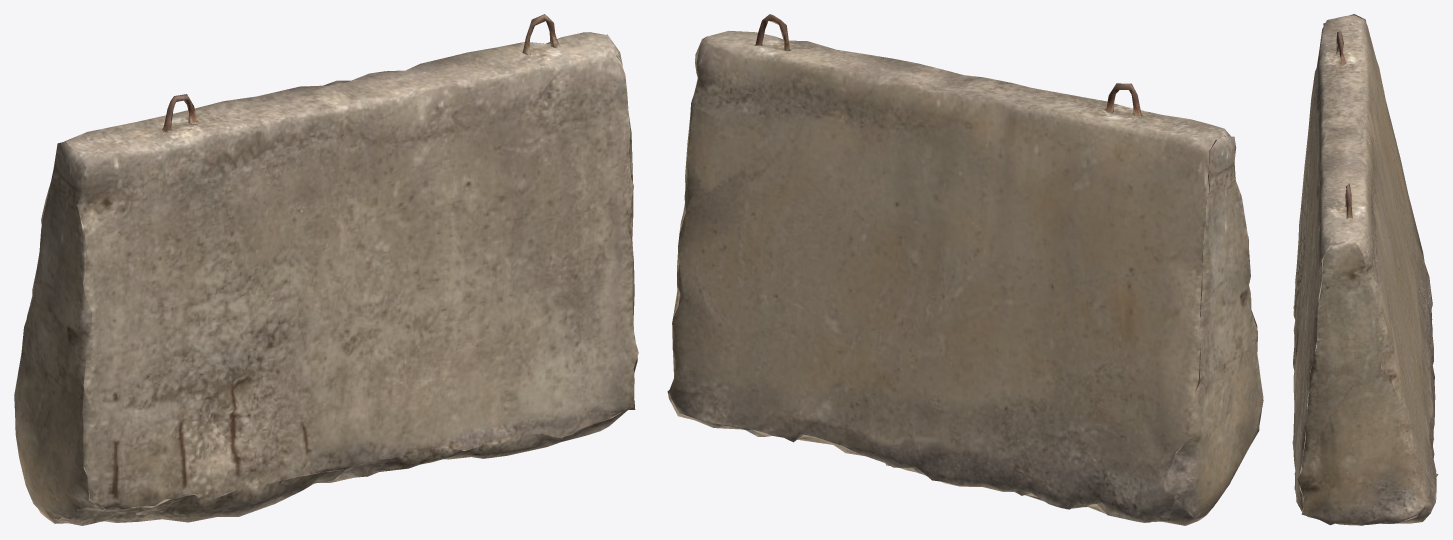
The model's file is concrete_road_barrier_02.glb.
3 renders of one model, left to right at view 1: azimuth 30°, elevation 25°; view 2: azimuth 150°, elevation 25°; view 3: azimuth 270°, elevation 25°, orthographic. The views are drawn at different scales.
Visible parts, largest first — view 1: CC0_concrete_road_barrier_02; view 2: CC0_concrete_road_barrier_02; view 3: CC0_concrete_road_barrier_02.
Part boxes in pixels (x1=…): CC0_concrete_road_barrier_02: x1=14, y1=14, x2=638, y2=525; CC0_concrete_road_barrier_02: x1=667, y1=14, x2=1263, y2=525; CC0_concrete_road_barrier_02: x1=1292, y1=14, x2=1438, y2=525.
Size of the model in its own units: 1.56 by 1.11 by 0.4461.
Materials: 1 (1 with a texture image).
